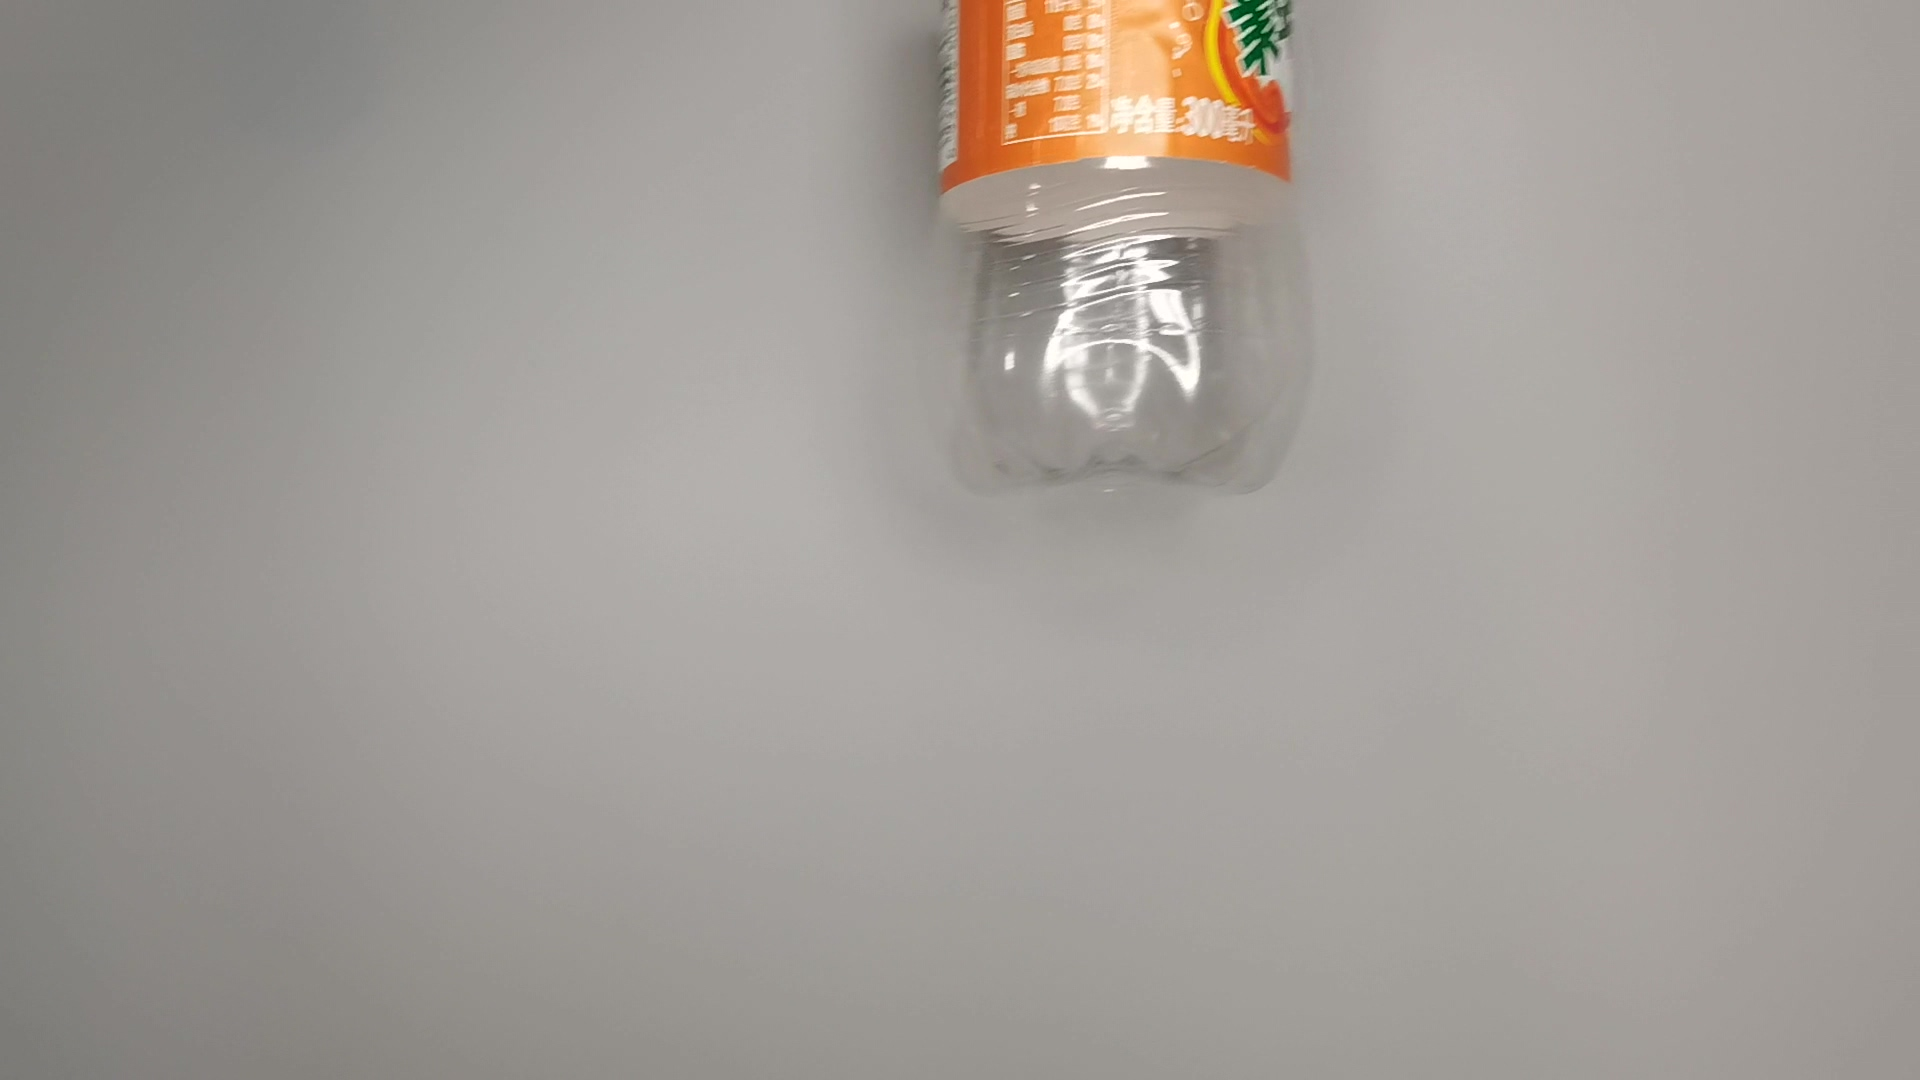bottle: (923, 1, 1331, 517)
